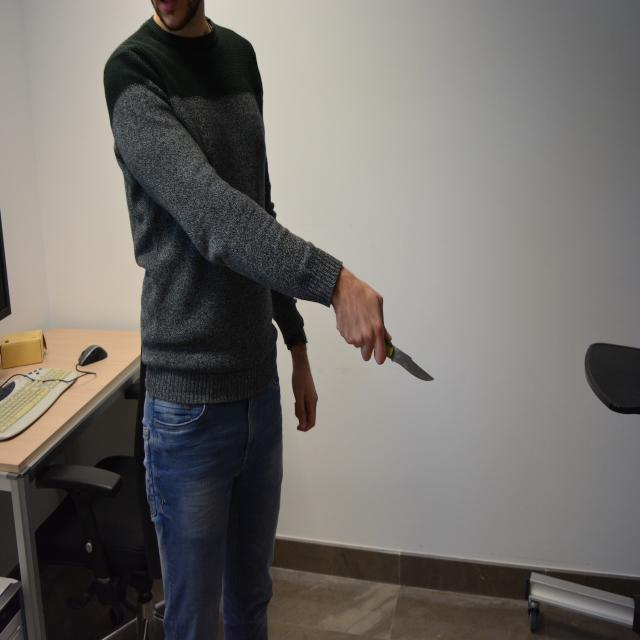knife: (386, 336, 439, 392)
